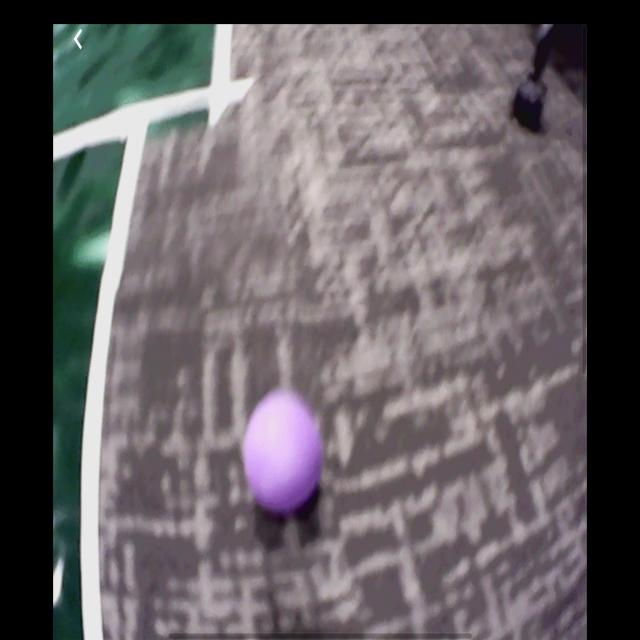ball: (247, 398, 322, 511)
